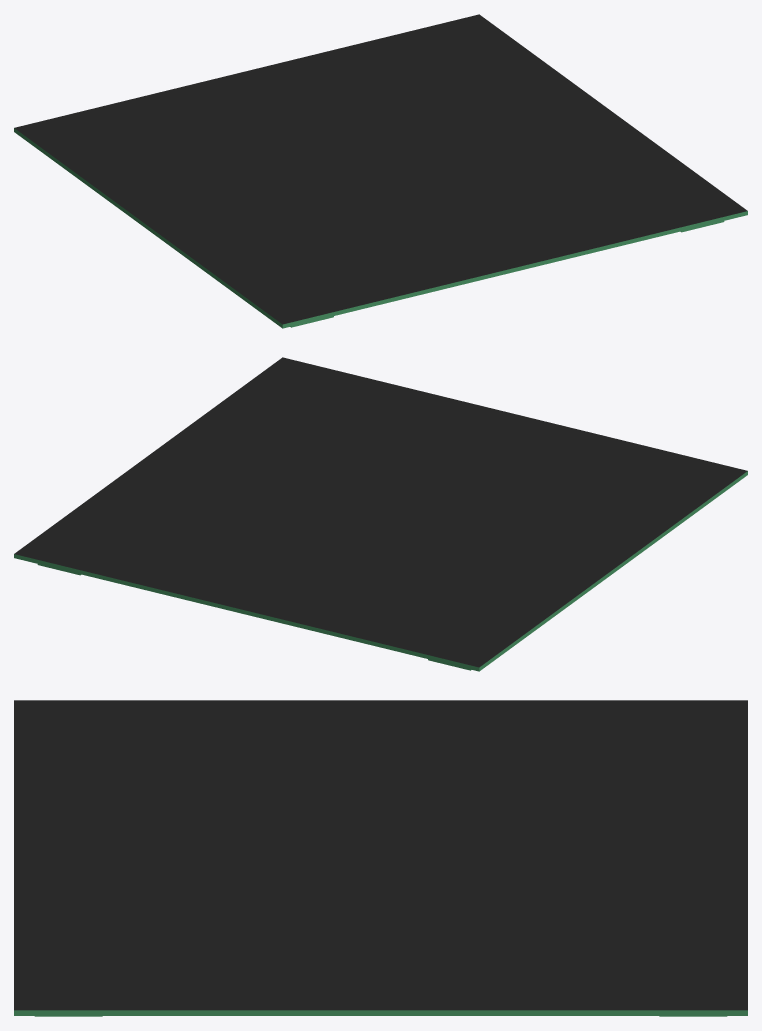
Rendered from road tile lod0.FBX.
The picture shows the model from 3 angles, top to bottom: view 1: azimuth 30°, elevation 25°; view 2: azimuth 150°, elevation 25°; view 3: azimuth 270°, elevation 25°; orthographic projection. The views are drawn at different scales.
Visible parts, largest first — view 1: Object021; view 2: Object021; view 3: Object021.
Boxes of the visible parts, x1,y1,x2,y2 form: Object021: (14,14,747,328); Object021: (14,357,747,671); Object021: (14,700,747,1016).
Bounding box in the file's own units: 3 × 0.14 × 3.
